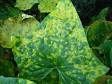Diseased_Leaves: (3, 20, 36, 39), (77, 60, 103, 76), (48, 2, 75, 15), (45, 20, 65, 33), (71, 29, 84, 43), (6, 41, 28, 49)
